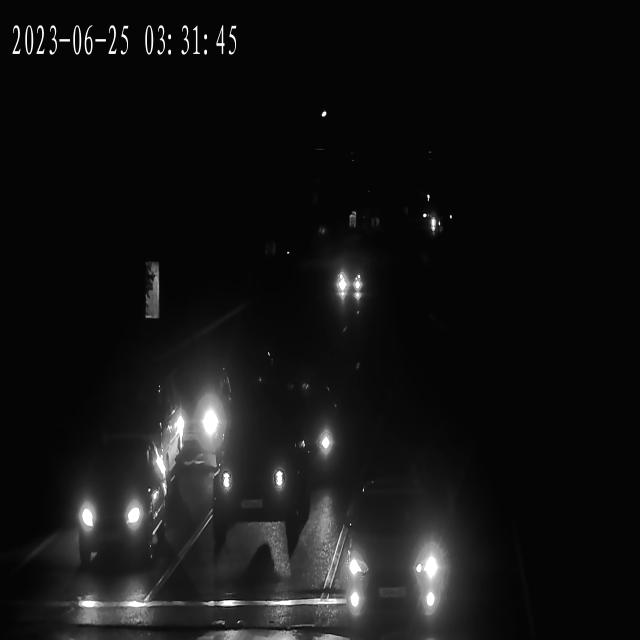Car: (336, 484, 454, 620), (61, 452, 162, 570), (150, 364, 236, 456), (210, 436, 302, 522), (281, 381, 357, 481), (332, 271, 369, 305)
